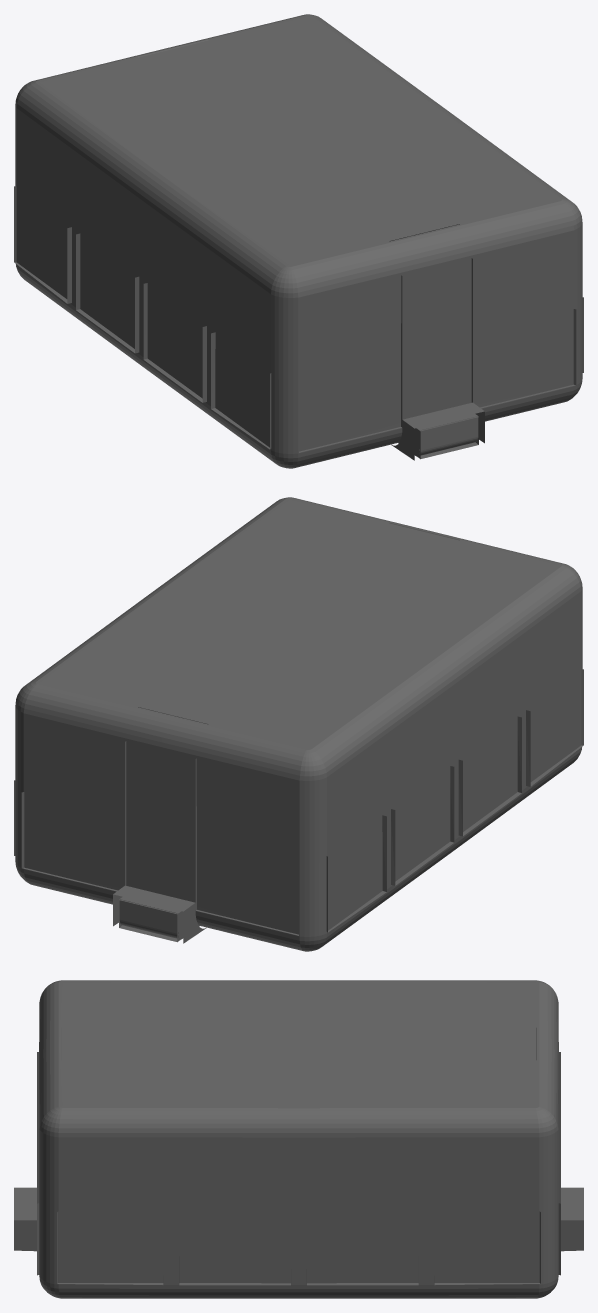
The model's file is Map_unified_TMP.fbx.
3 renders of one model, top to bottom at view 1: azimuth 30°, elevation 25°; view 2: azimuth 150°, elevation 25°; view 3: azimuth 270°, elevation 25°, orthographic. The views are drawn at different scales.
Visible parts, largest first — view 1: MapMesh; view 2: MapMesh; view 3: MapMesh.
Boxes of the visible parts, x1,y1,x2,y2 form: MapMesh: [14, 14, 583, 468]; MapMesh: [14, 497, 583, 951]; MapMesh: [14, 980, 583, 1298].
Size of the model in its own units: 1461 by 890 by 2388.
Materials: 1 (1 with a texture image).
